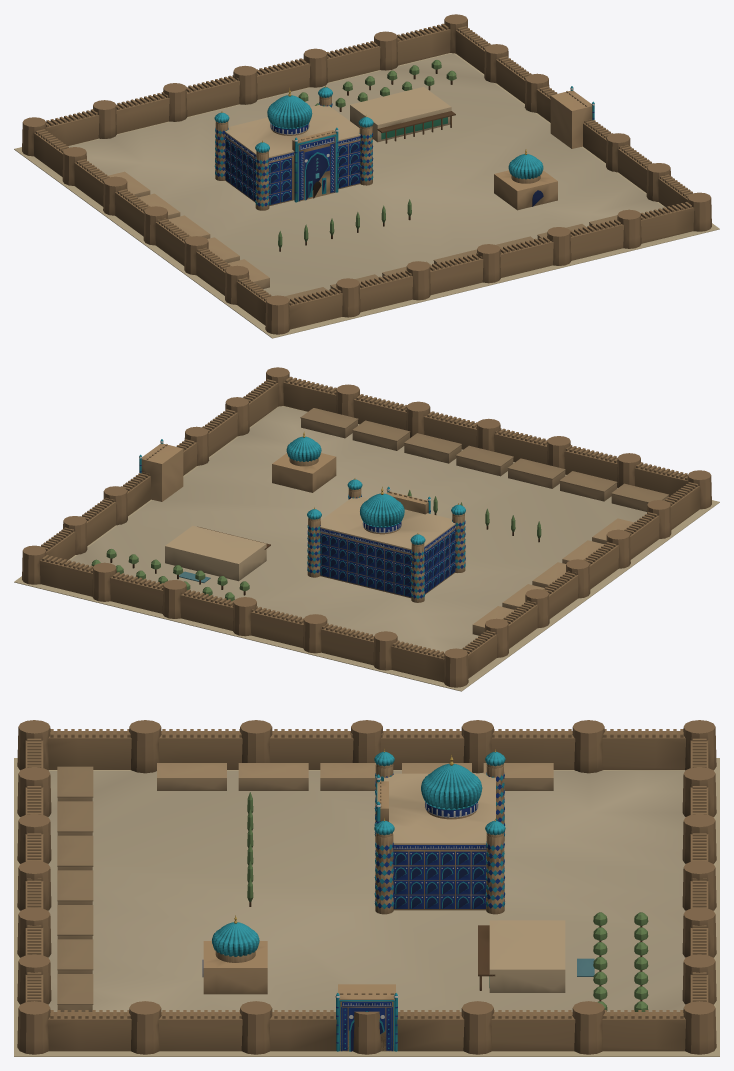
The model's file is kok-saray.glb.
The picture shows the model from 3 angles, top to bottom: view 1: azimuth 30°, elevation 25°; view 2: azimuth 150°, elevation 25°; view 3: azimuth 270°, elevation 25°; orthographic projection. The views are drawn at different scales.
Visible parts, largest first — view 1: p0_walls, p1_kok saray, p2_court buildings; view 2: p0_walls, p2_court buildings, p1_kok saray; view 3: p0_walls, p2_court buildings, p1_kok saray.
Boxes of the visible parts, x1,y1,x2,y2 form: p0_walls: [14, 14, 719, 338]; p1_kok saray: [214, 85, 373, 210]; p2_court buildings: [108, 60, 617, 300]; p0_walls: [14, 367, 719, 691]; p2_court buildings: [91, 408, 668, 635]; p1_kok saray: [307, 478, 465, 602]; p0_walls: [14, 720, 719, 1056]; p2_court buildings: [57, 763, 648, 1011]; p1_kok saray: [374, 748, 505, 914].
Bounding box in the file's own units: 242 × 46.82 × 242.
